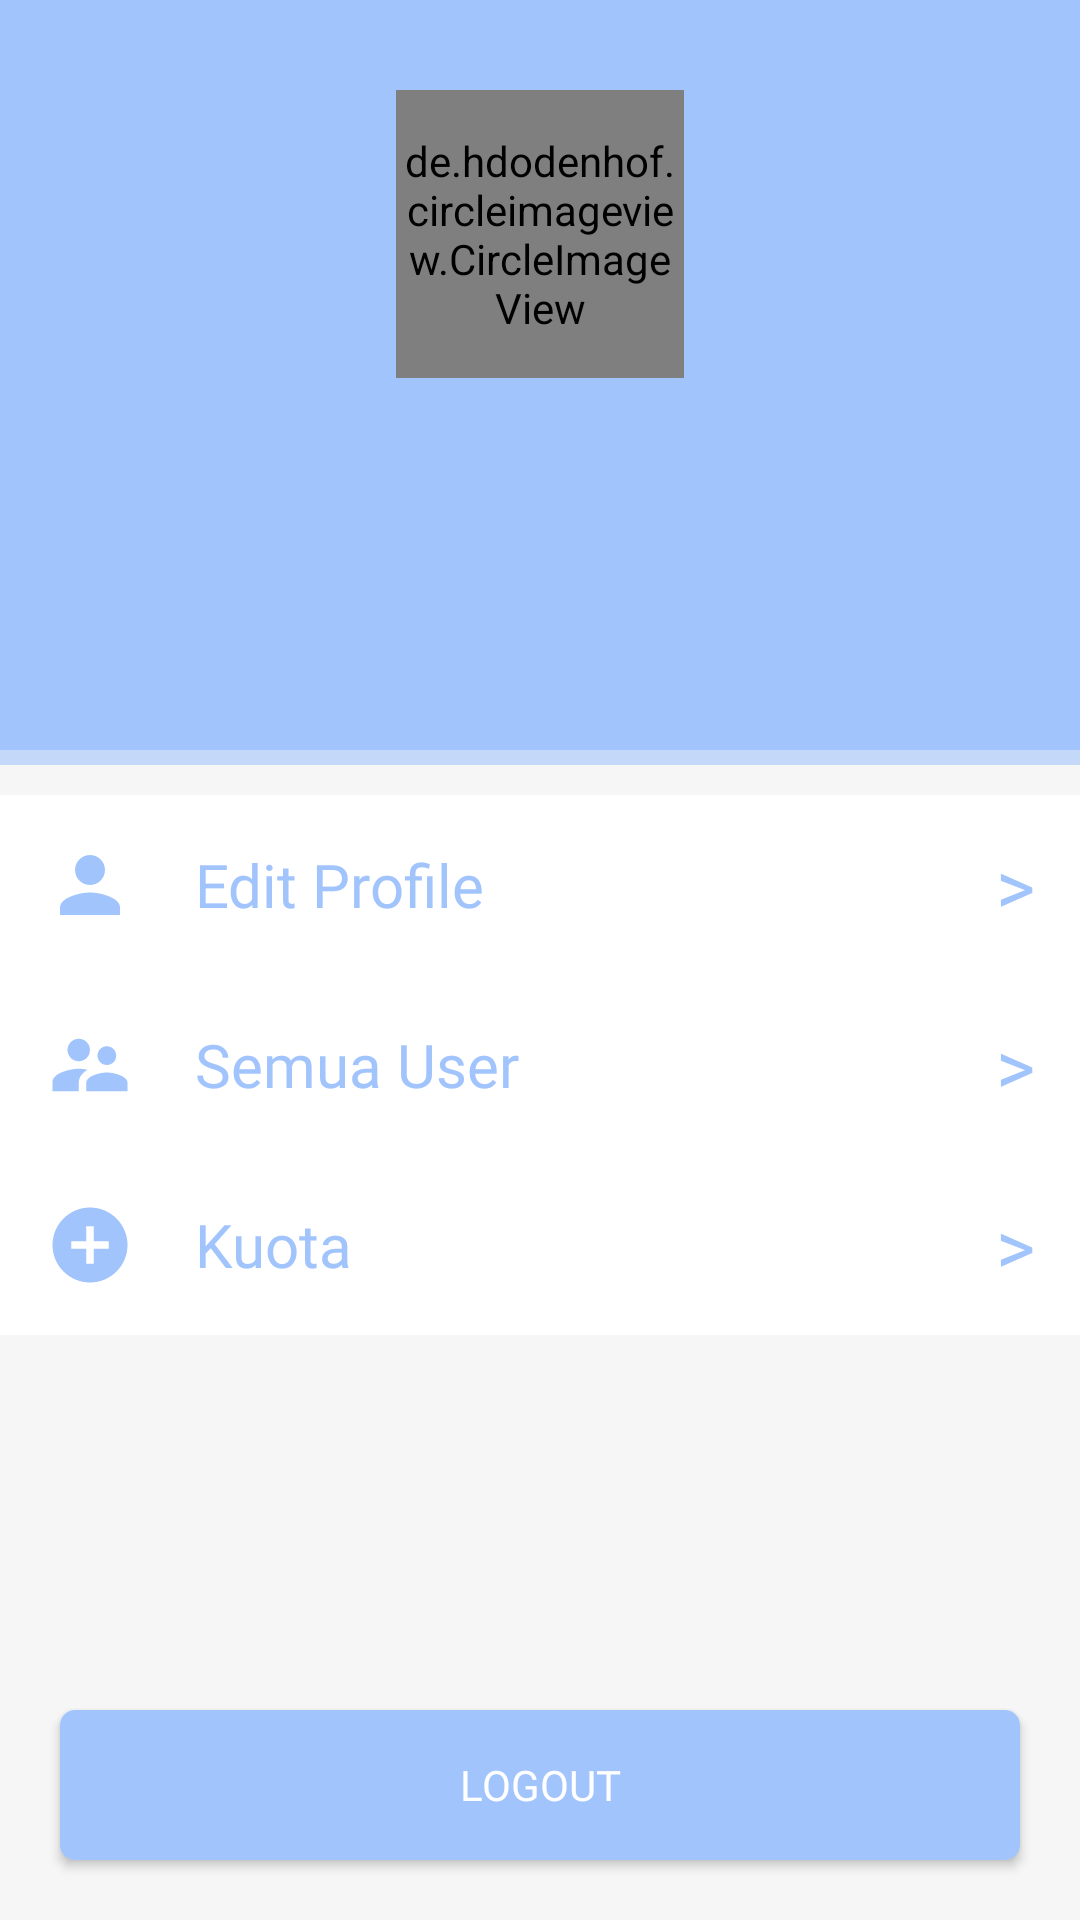

Named icons in this screenshot (1080px×1920px) and their bounding boxes, (x1=x1, y1=y1, x2=x2, y2=y2):
add circle: (x1=52, y1=1207, x2=128, y2=1283)
person: (x1=60, y1=855, x2=120, y2=915)
supervisor account: (x1=52, y1=1039, x2=128, y2=1091)
